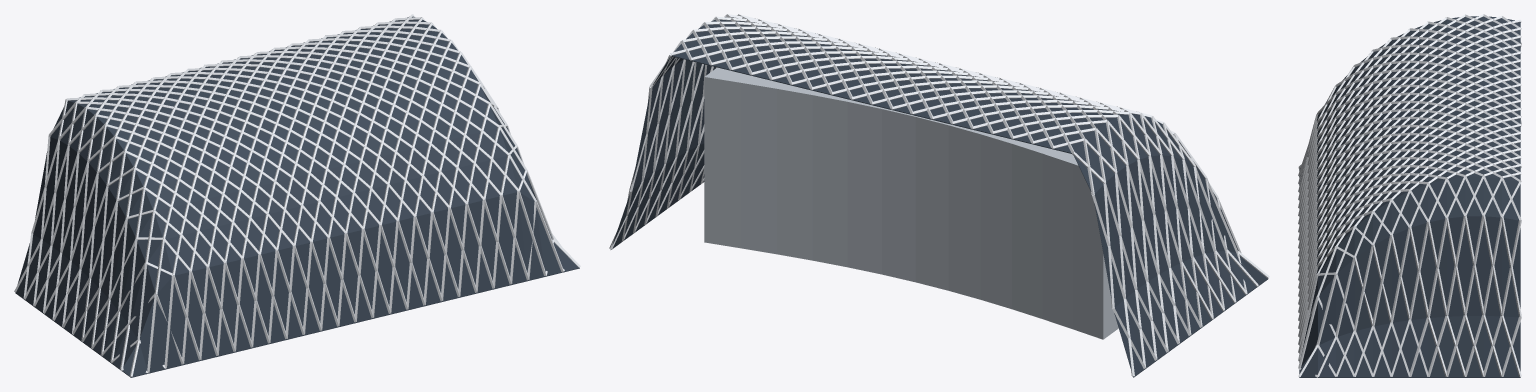
File: yas_hotel.glb
3 views of the same model, side by side, from view 1: azimuth 30°, elevation 25°; view 2: azimuth 150°, elevation 25°; view 3: azimuth 270°, elevation 25° (orthographic). The views are drawn at different scales.
Parts seen in each view (by area): view 1: panels, gridshell; view 2: block, panels, gridshell; view 3: panels, gridshell.
Boxes of the visible parts, x1,y1,x2,y2 form: panels: (15, 16, 579, 377); gridshell: (14, 14, 580, 376); block: (704, 67, 1118, 339); panels: (610, 17, 1267, 377); gridshell: (609, 14, 1269, 376); panels: (1299, 16, 1520, 377); gridshell: (1298, 14, 1521, 377).
Size of the model in its own units: 153 by 60.91 by 68.88.
